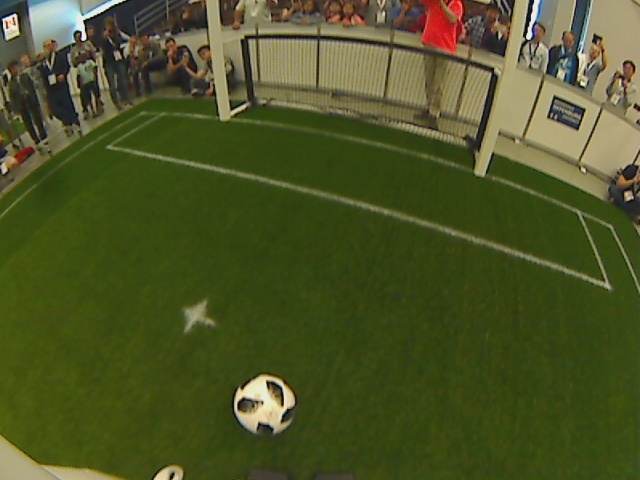ball: (230, 372, 297, 441)
